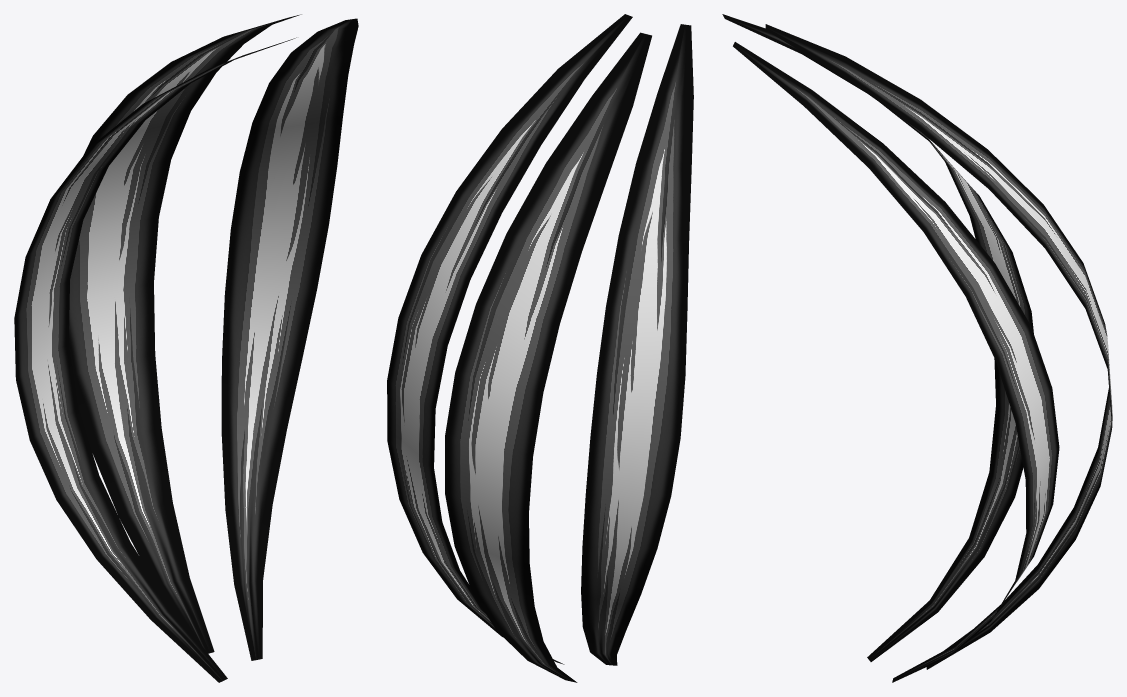
File: Fx_Zombie_ATK_Mesh.FBX
3 views of the same model, side by side, from view 1: azimuth 30°, elevation 25°; view 2: azimuth 150°, elevation 25°; view 3: azimuth 270°, elevation 25° (orthographic). The views are drawn at different scales.
Parts seen in each view (by area): view 1: Plane004, Plane001, Plane003; view 2: Plane001, Plane003, Plane004; view 3: Plane004, Plane001, Plane003.
Part boxes in pixels (x1,y1,x2,y2): Plane004: (221, 18, 358, 660); Plane001: (69, 14, 301, 653); Plane003: (14, 37, 296, 682); Plane001: (445, 32, 651, 682); Plane003: (581, 24, 693, 665); Plane004: (387, 14, 632, 664); Plane004: (733, 42, 1059, 682); Plane001: (765, 24, 1112, 669); Plane003: (722, 14, 1033, 661).
Size of the model in its own units: 74.49 by 151 by 83.48.
